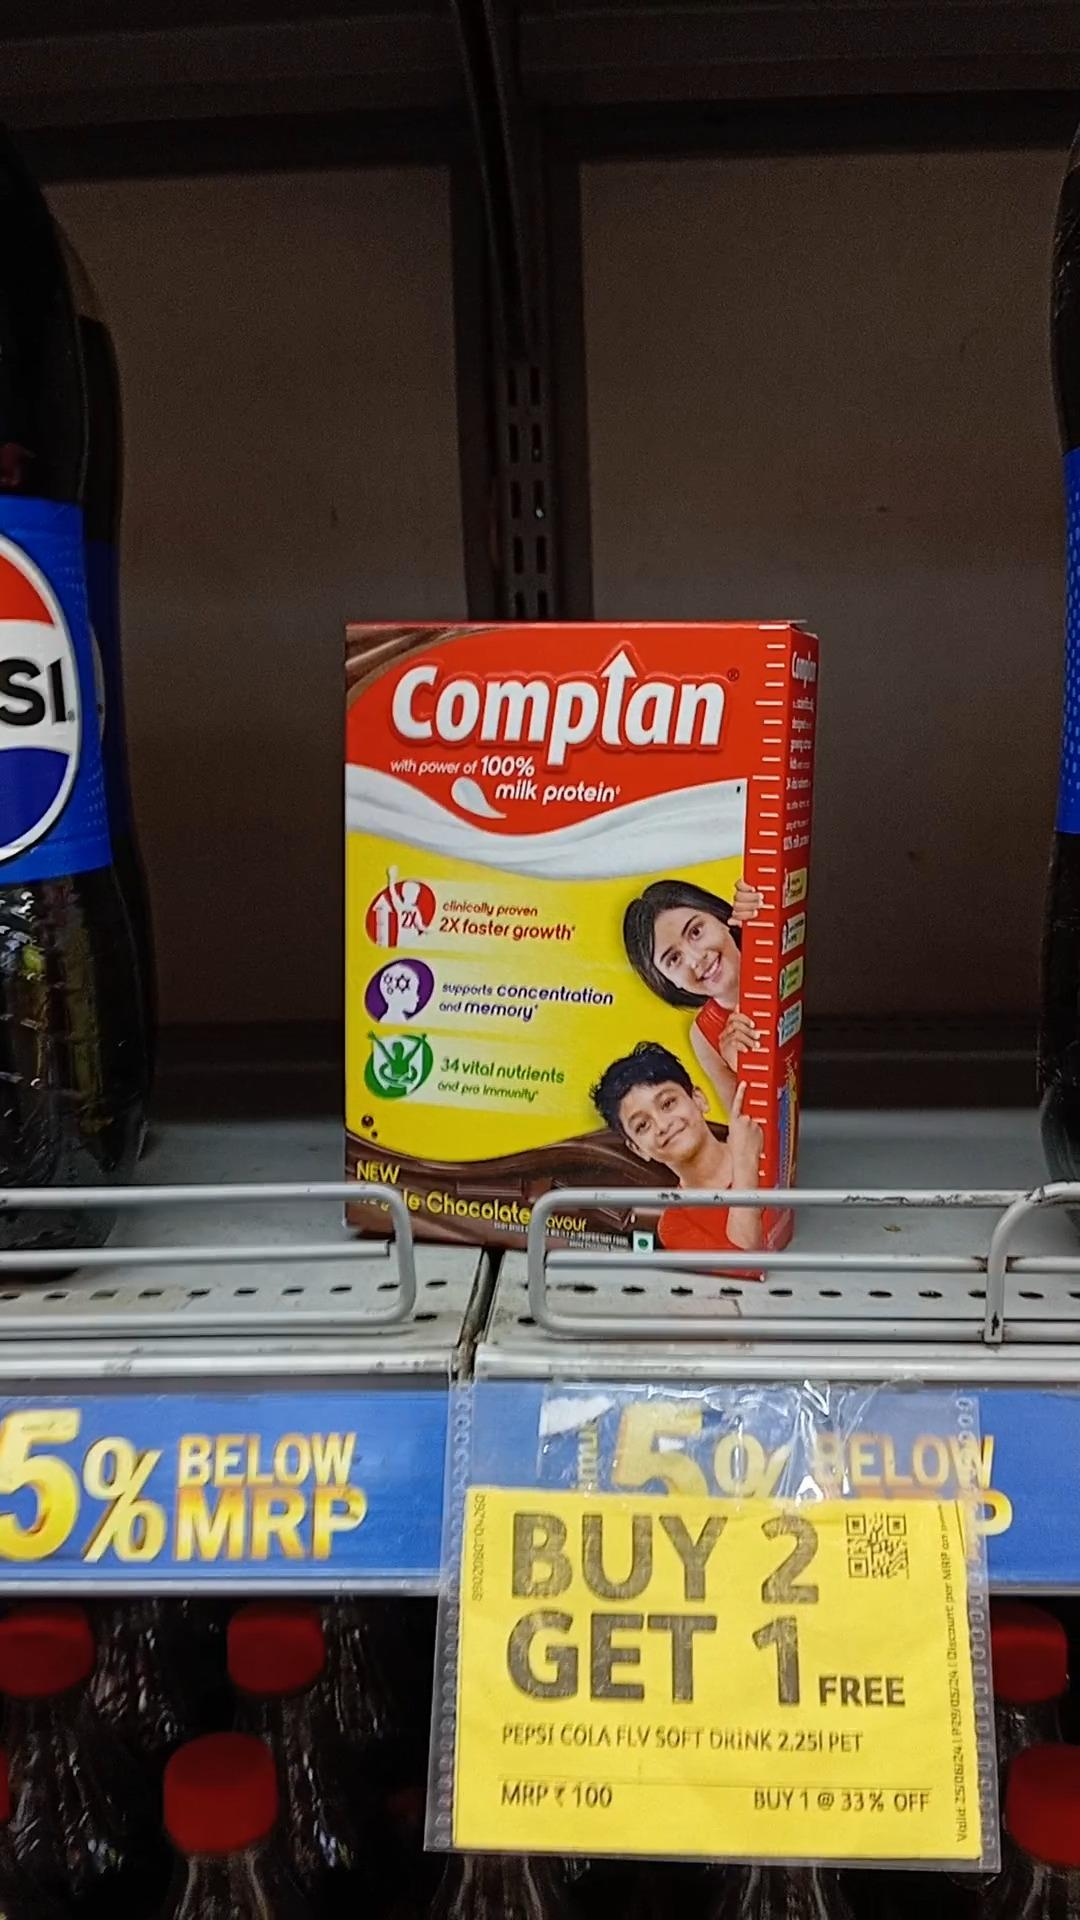COMPLAN_CHOCOLATE_200_GMS_PACK: (348, 622, 766, 1273)
